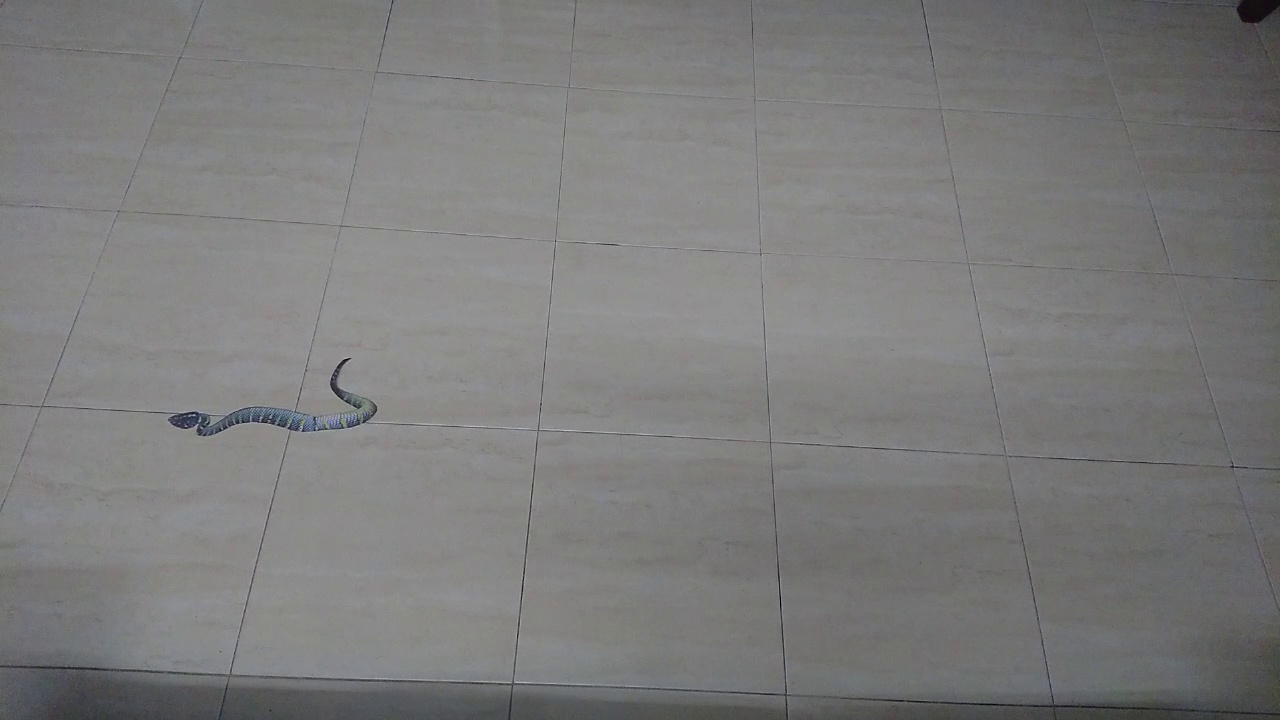snake: (152, 340, 390, 449)
